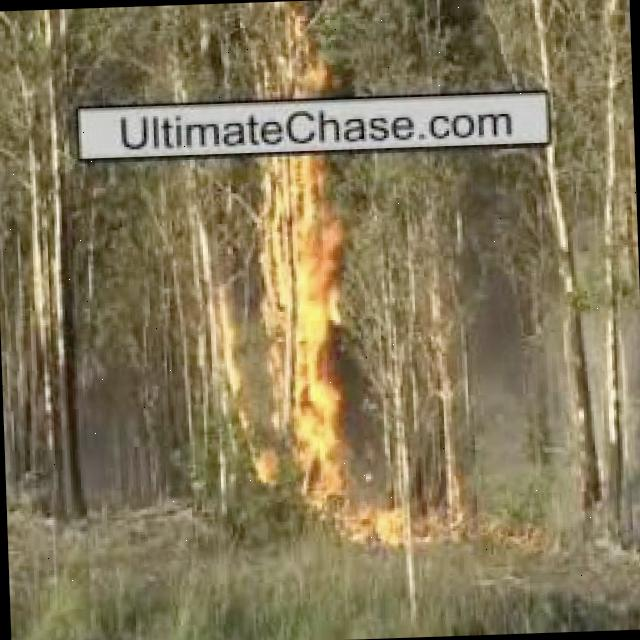fire: (258, 155, 352, 431), (284, 444, 436, 555), (195, 256, 254, 414), (266, 12, 336, 102)
